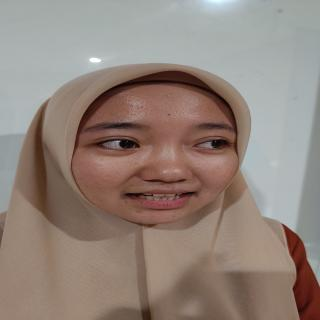Takut: (67, 77, 248, 229)
